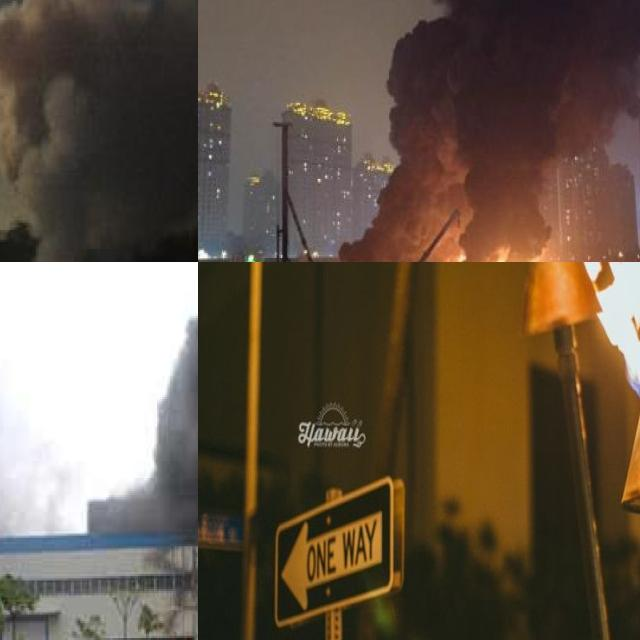fire: (585, 262, 640, 391), (450, 243, 546, 262)
smoke: (287, 0, 640, 262), (0, 0, 198, 262), (118, 262, 198, 633)
